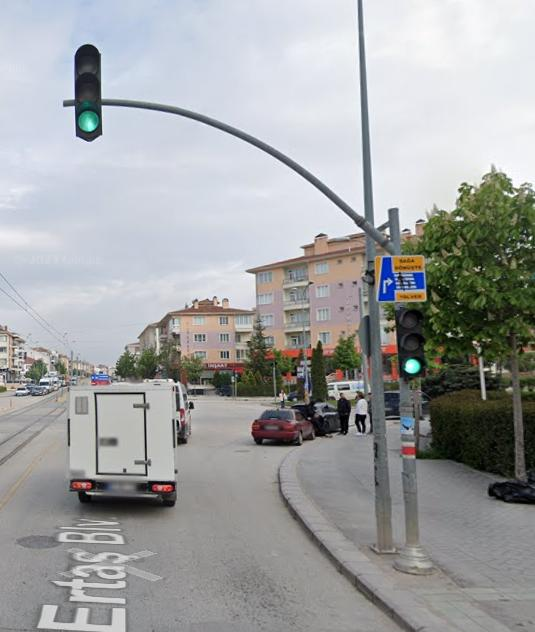greenlight: (73, 42, 105, 140), (396, 307, 429, 381)
